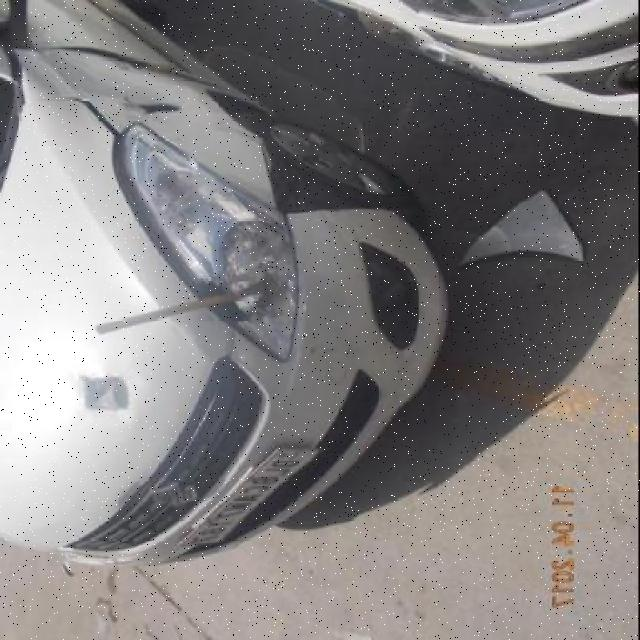damage: (113, 137, 251, 326), (266, 144, 396, 215), (49, 47, 234, 90), (78, 375, 140, 415), (117, 94, 188, 118)
